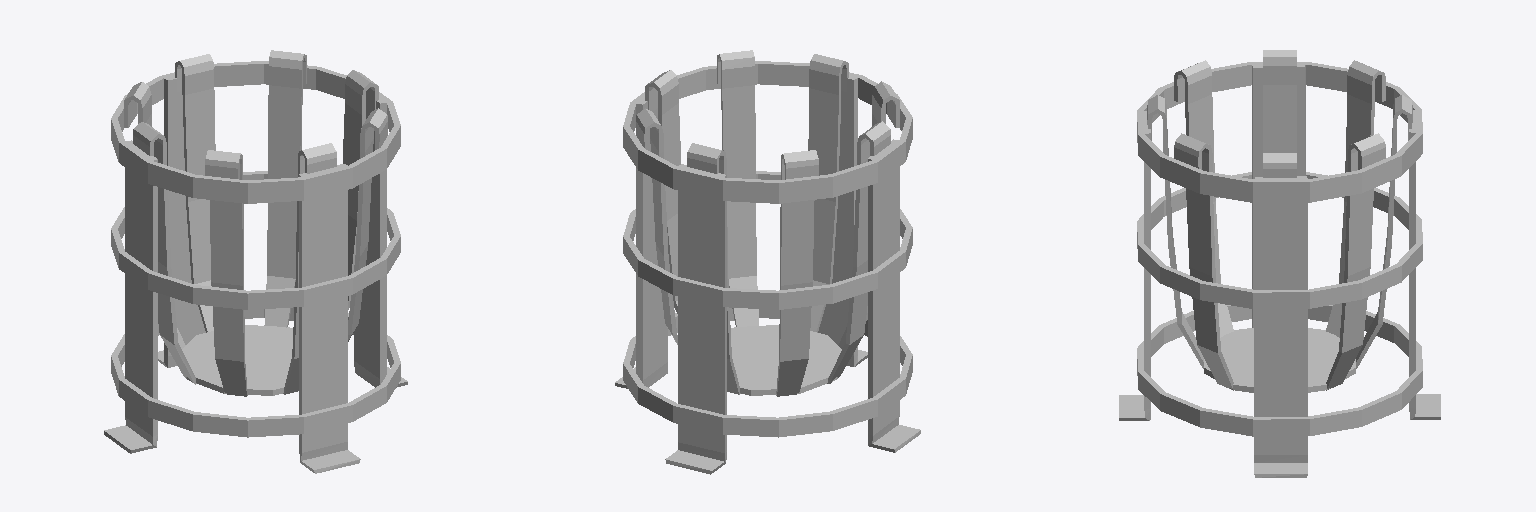
The model's file is Brazier001.obj.
3 renders of one model, left to right at view 1: azimuth 30°, elevation 25°; view 2: azimuth 150°, elevation 25°; view 3: azimuth 270°, elevation 25°, orthographic.
Visible parts, largest first — view 1: Brazier; view 2: Brazier; view 3: Brazier.
Boxes of the visible parts, <box> form: Brazier: <box>104,50,407,473</box>; Brazier: <box>615,50,920,474</box>; Brazier: <box>1119,50,1440,477</box>.
Bounding box in the file's own units: 71.18 × 75.2 × 71.18.